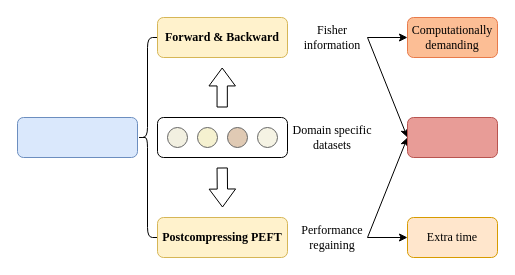
This 515x275 diagram has some shape labels left out. Here are the shapes that lost their labels. From the top down, the centre of each, then its label:
[77,137]: FWSVD on LLM
[452,137]: Degradation on other domains
